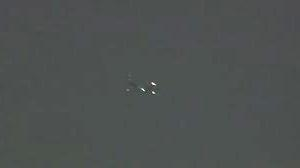Plane: (129, 77, 172, 100)
